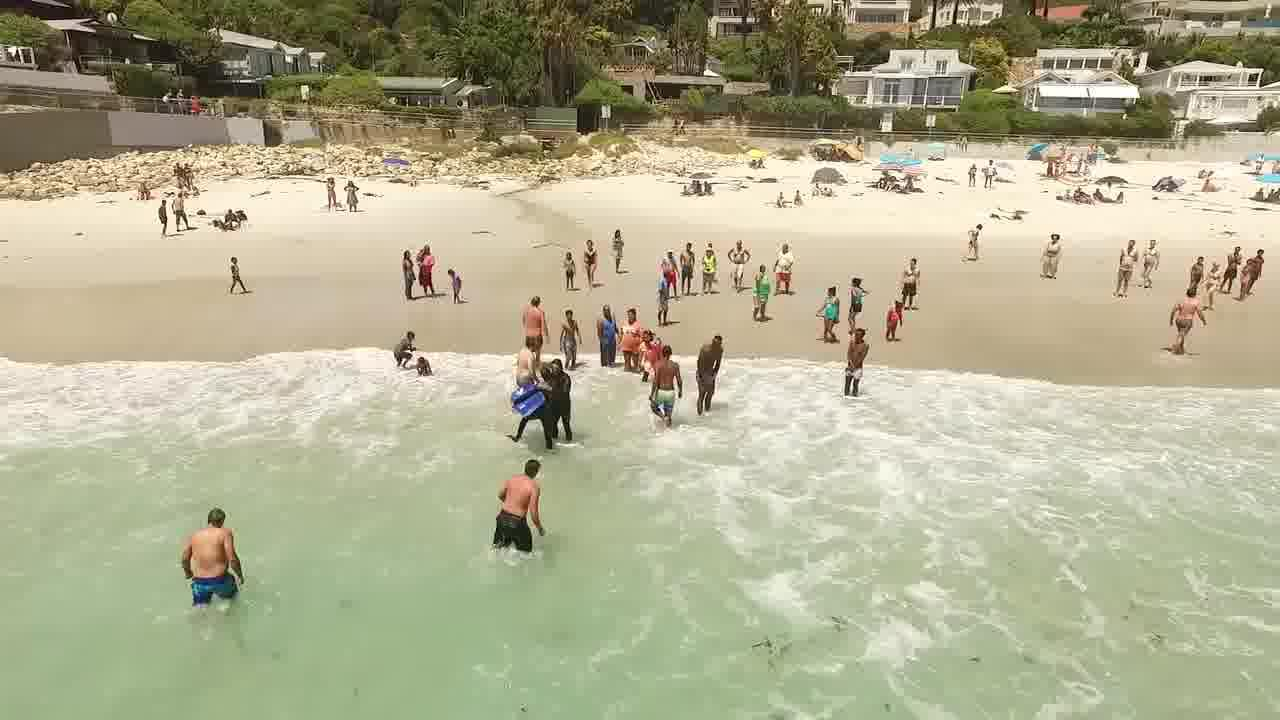swimmer: (186, 500, 262, 609), (490, 450, 549, 551), (692, 329, 737, 404), (542, 356, 581, 436), (1166, 284, 1205, 358), (843, 325, 877, 393), (519, 282, 552, 347), (591, 297, 616, 362), (621, 296, 640, 373), (651, 342, 674, 399), (512, 330, 536, 379)
